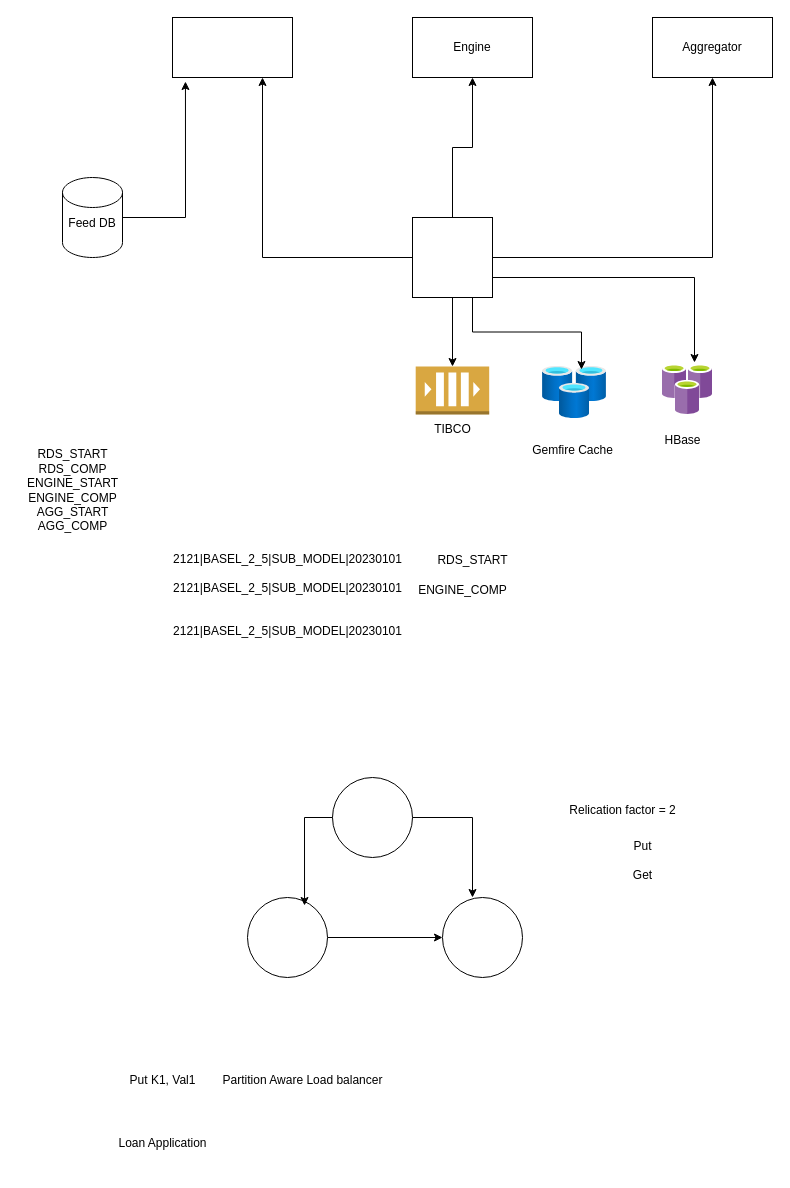
This 790x1188 diagram has some shape labels left out. The centre of each missing label's shape, as x and y in pixels:
"Maestro" belongs at pixel 452 257.
"RDS Service" belongs at pixel 232 47.
